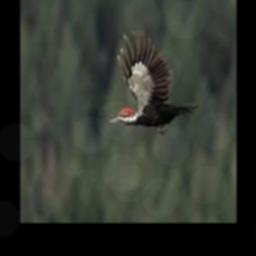Woodpecker: (108, 30, 199, 135)
